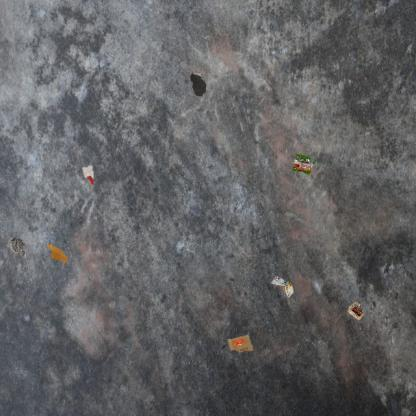dirty: (225, 332, 254, 353), (270, 274, 295, 298), (292, 153, 316, 175), (346, 299, 366, 322), (7, 236, 25, 256), (81, 164, 94, 184)
liquid: (45, 244, 69, 263), (190, 71, 206, 96)
